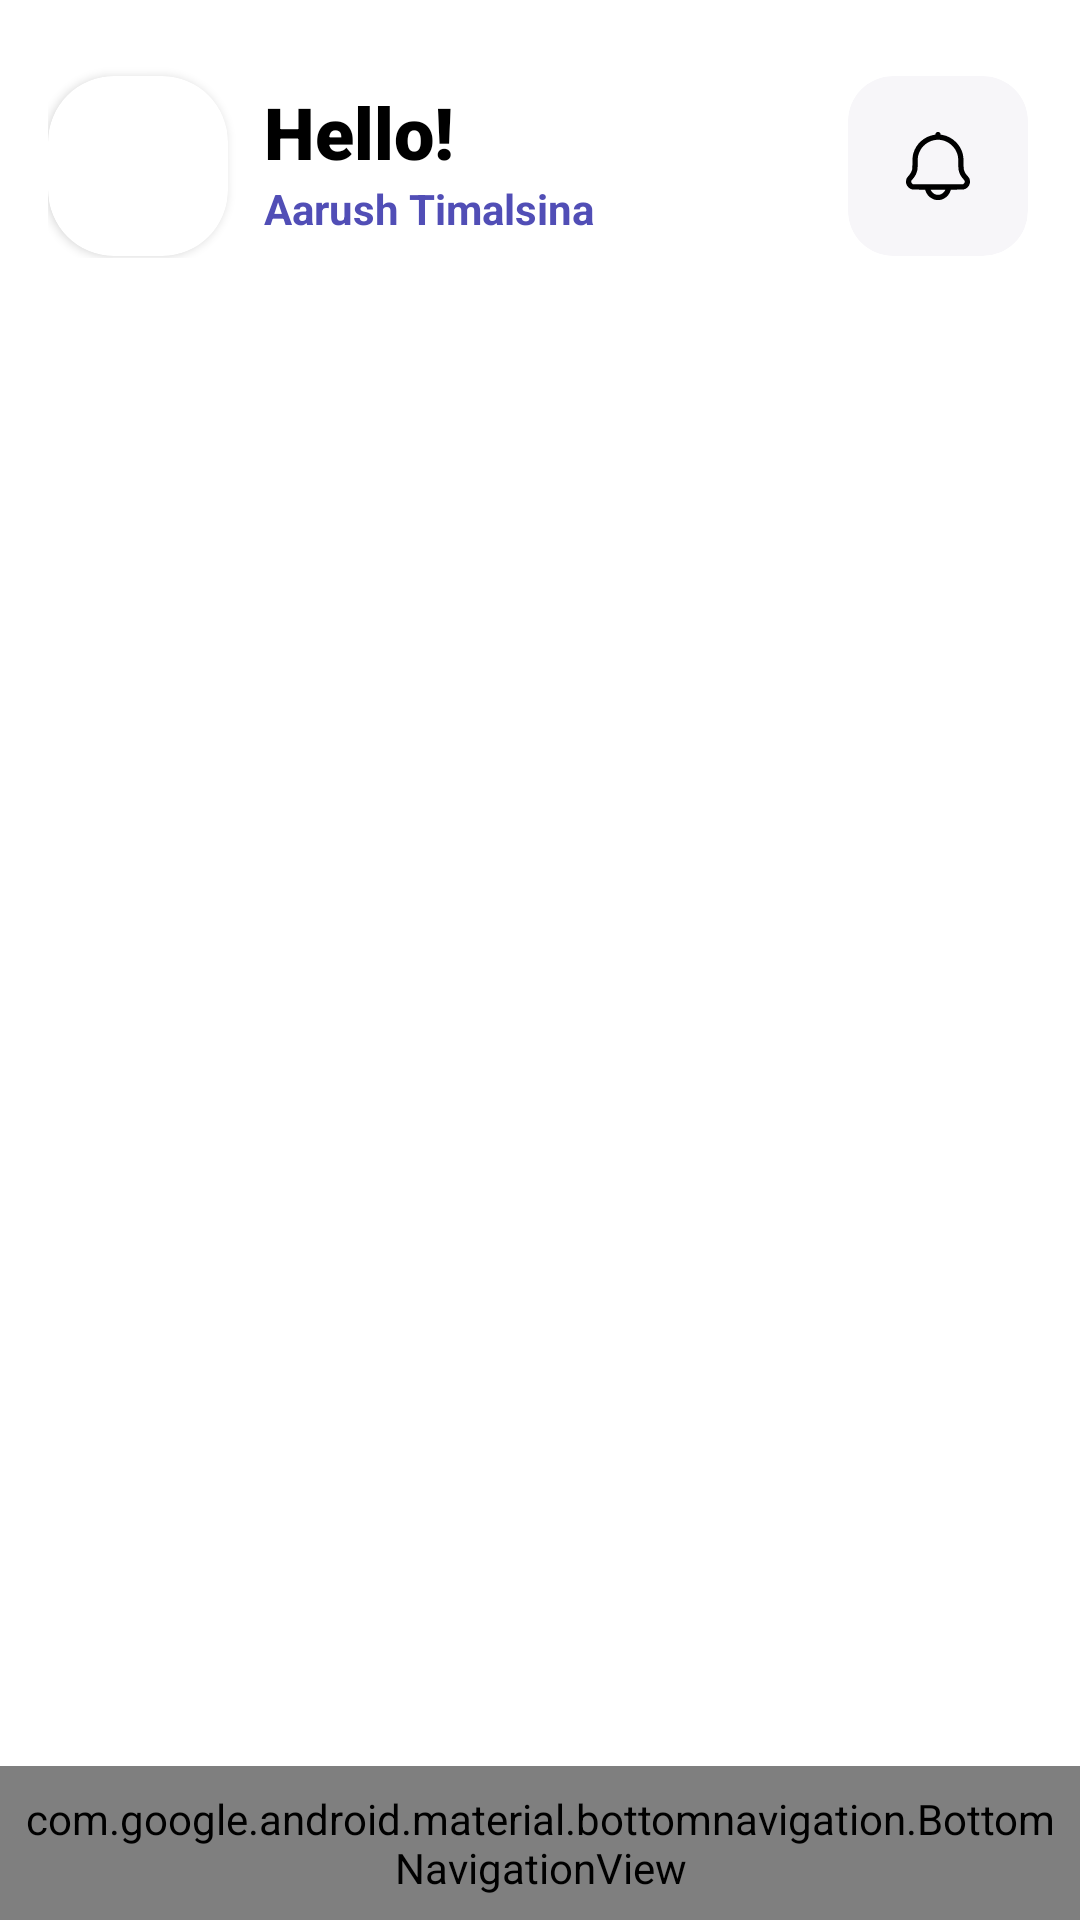

Screen size 1080px x 1920px. Icon name, then its box in pixels as {"x1": x1, "y1": y1, "x2": x2, "y2": y2}:
notification: {"x1": 848, "y1": 76, "x2": 1028, "y2": 256}
